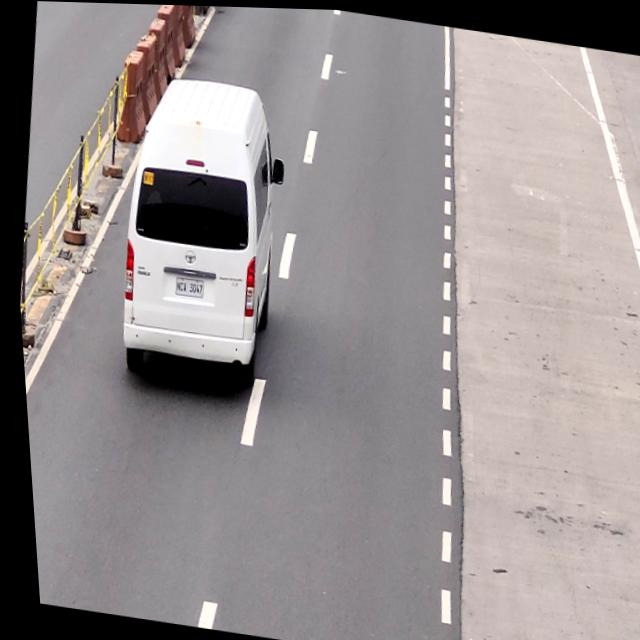Car: (99, 74, 297, 389)
License-Plate: (167, 274, 204, 301)
